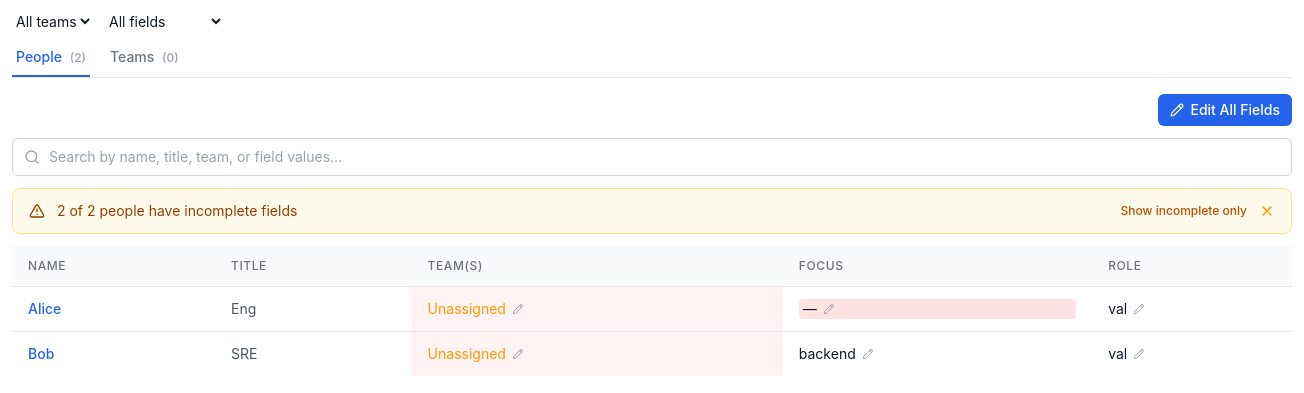
Test case: DataQualityTab › field filter › filters to only people missing the selected field
The image size is (1304, 393).
Select "Missing: Focus" in the dropdown with test id "field-filter" at [164, 22], box [105,12,224,31]
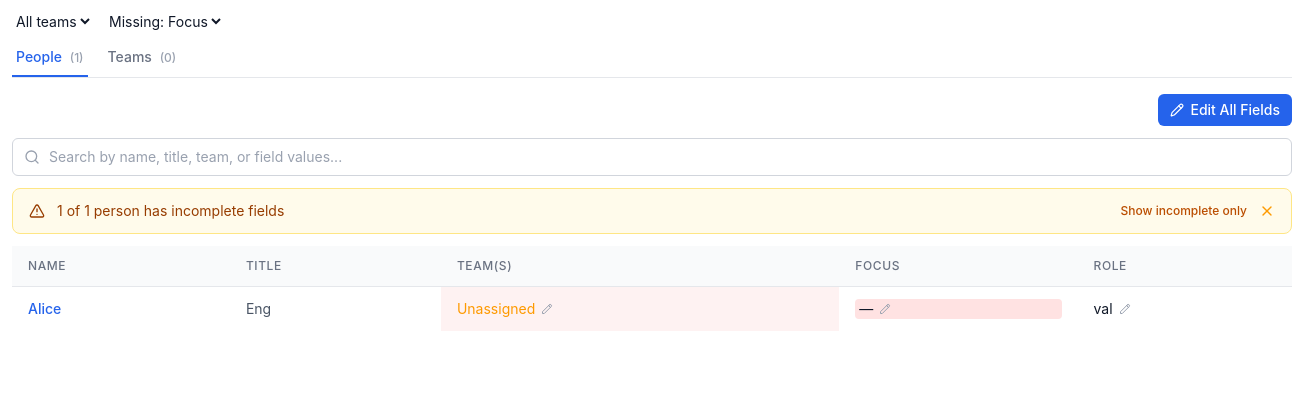
Expected: the text "Alice" is shown, [28,299,61,319]
Expected: the text "Bob" is gone
